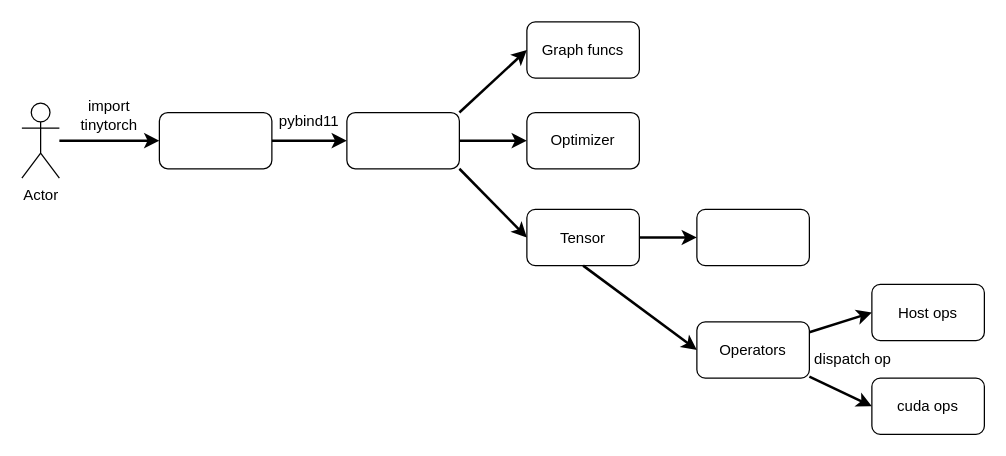
Some shapes in this 1006 by 456 pixel diagram are drawn without their labels. Each missing label, with the centre of its shape:
"C_API" belongs at point (402, 140).
"Python" belongs at point (215, 140).
"TensorImpl" belongs at point (752, 237).
